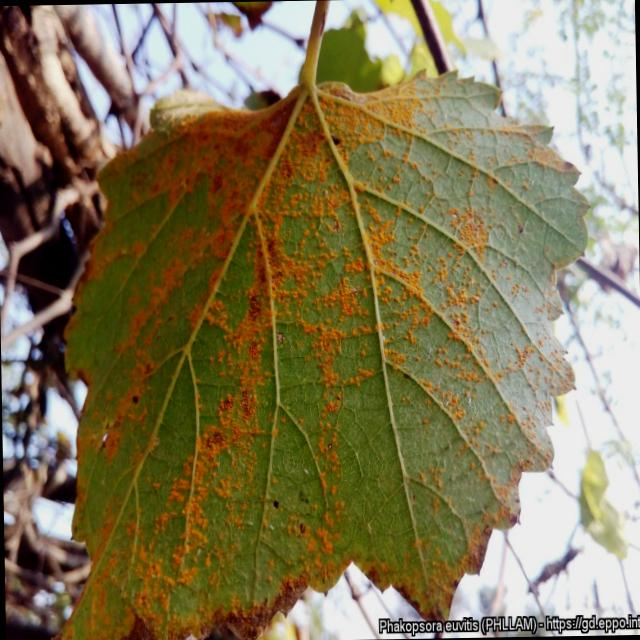leaf_rust: (57, 0, 586, 640)
